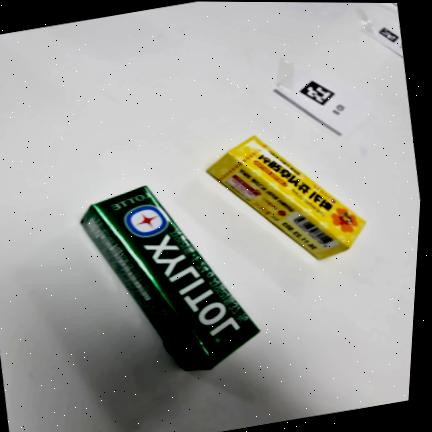gum_green: (81, 186, 260, 370)
gum_yellow: (207, 136, 365, 259)
